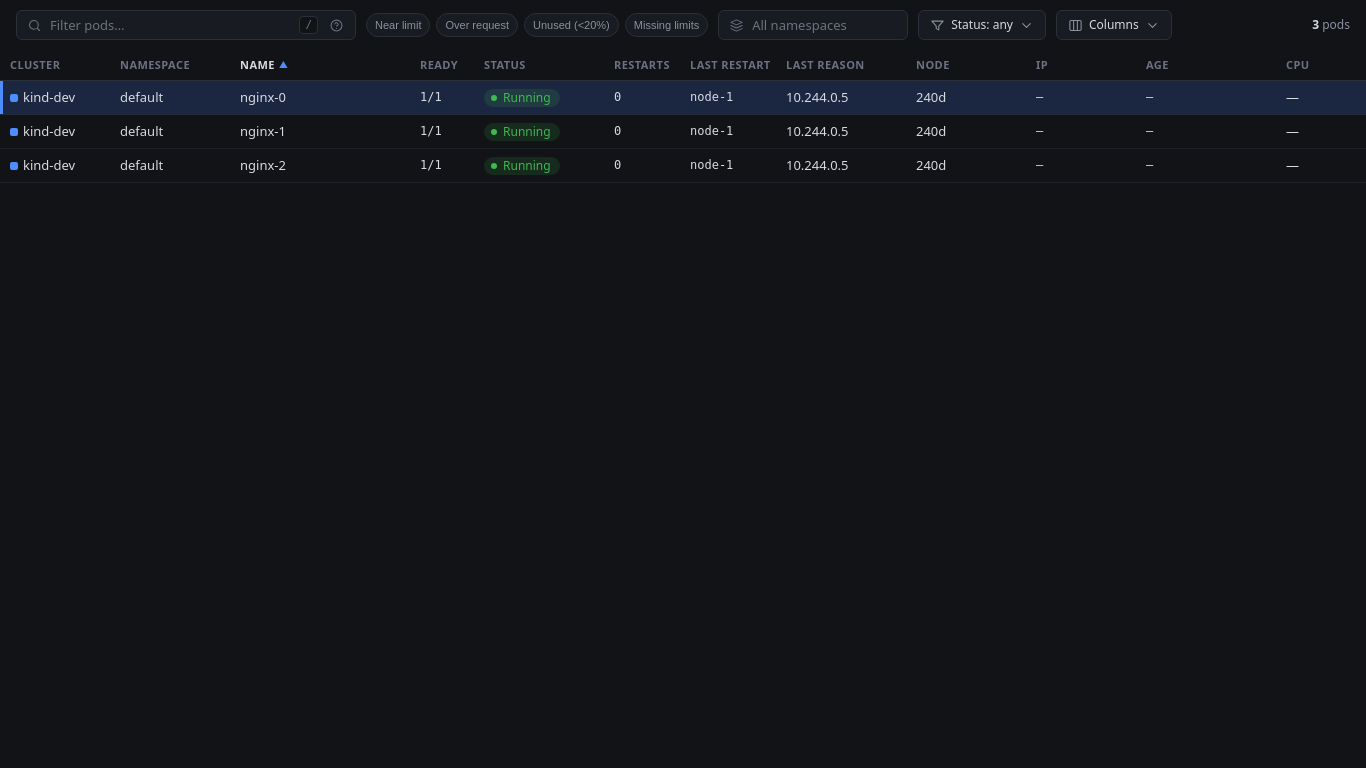
Test: R-07 ActionConfirmDialog mounted in PodTable and the palette › ctrl-d on the selected row opens the dialog for that row with the backend preview
Expected: the text "nginx-2" is shown, [240,156,286,174]
Click the text "nginx-0": (683, 98) [0,81,1365,115]
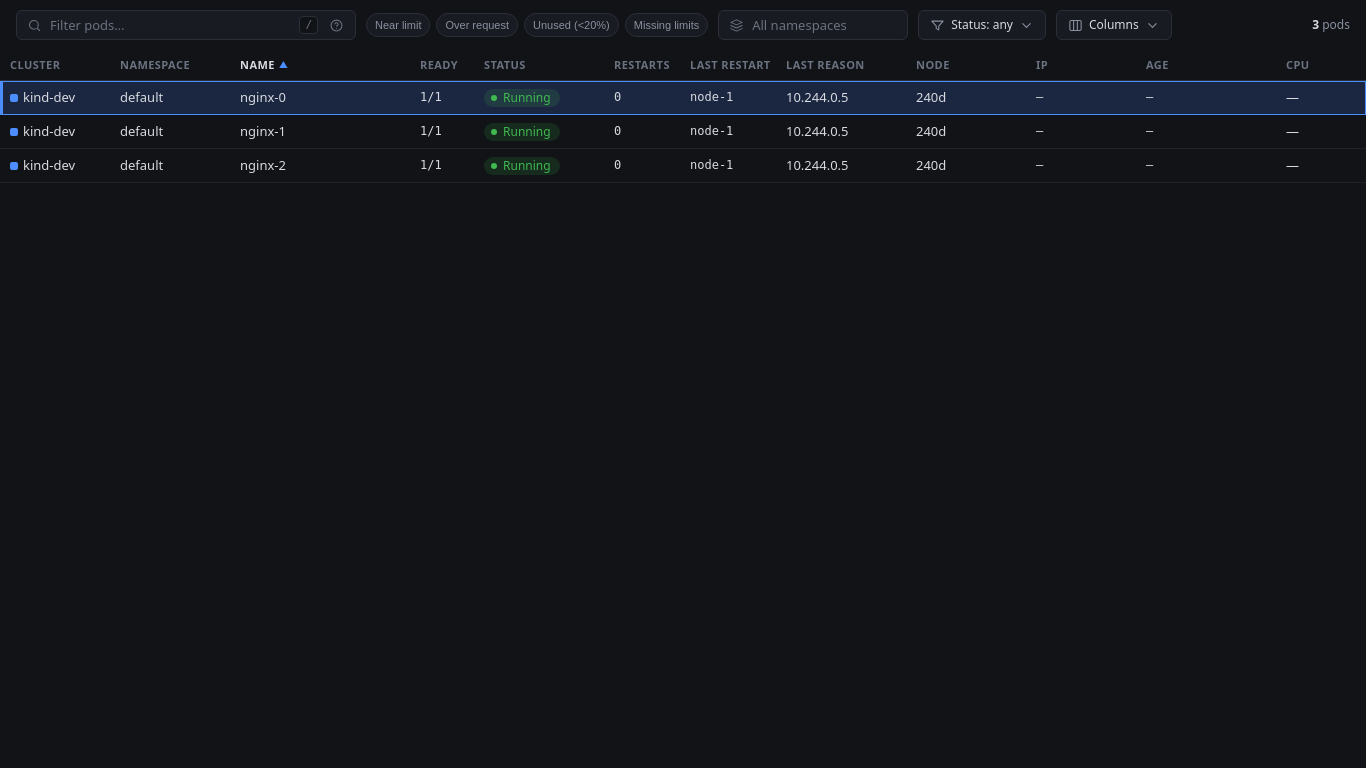
Type keys "j"
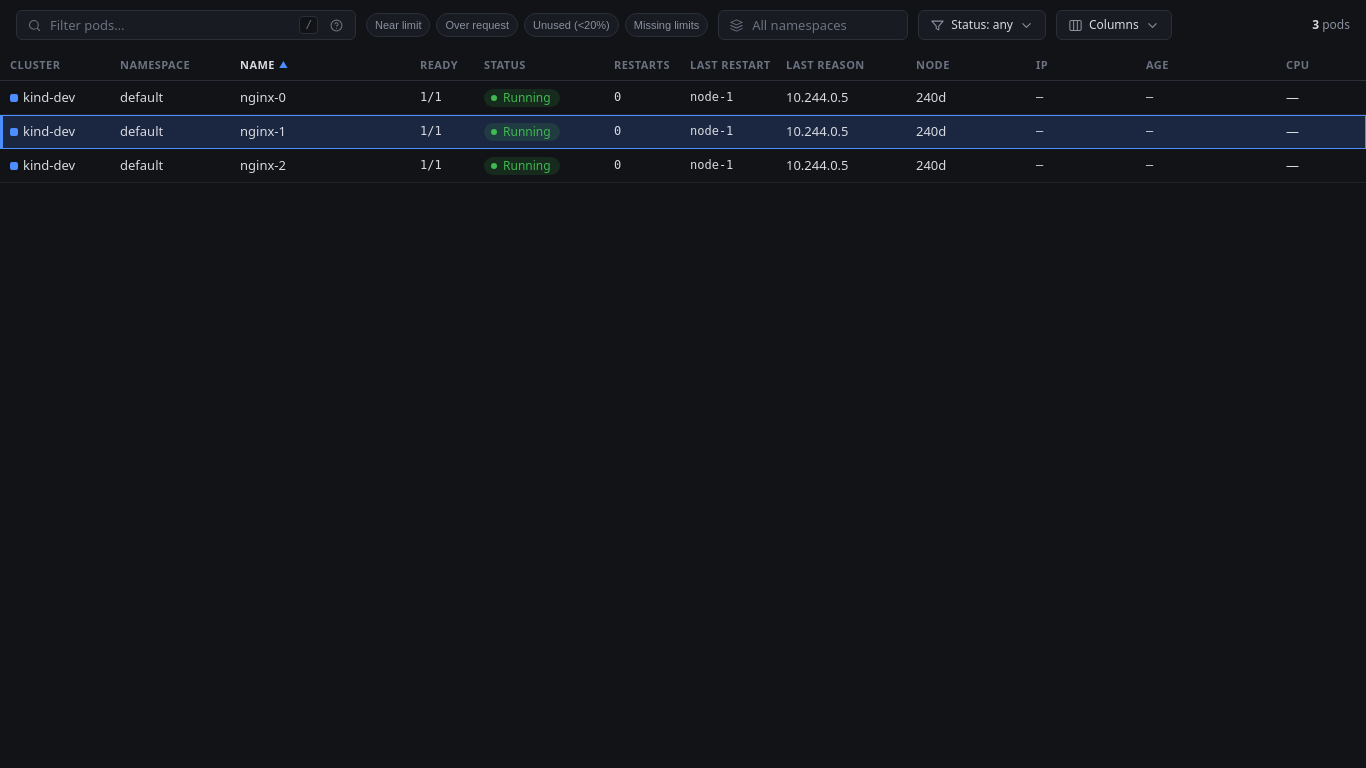
Type keys "{Control>}d{/Control}"
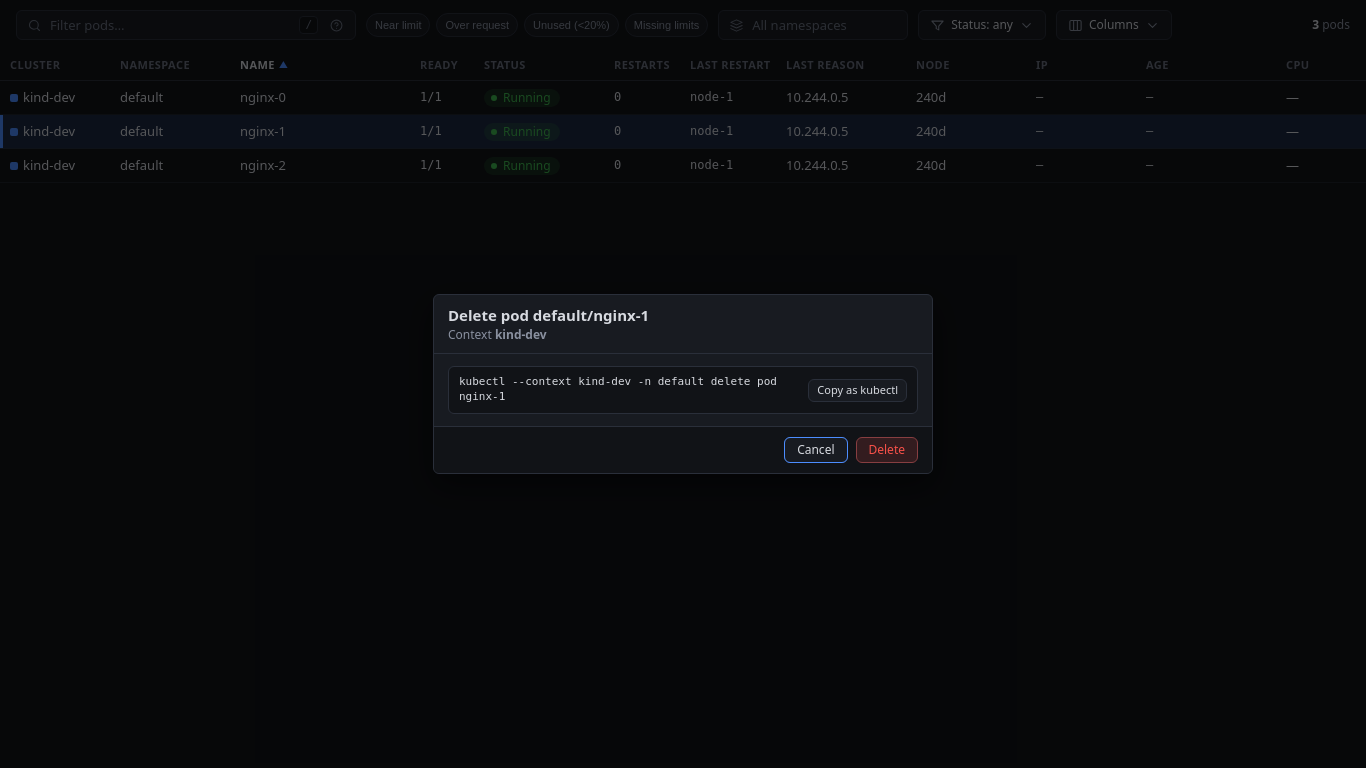
Expected: the text with test id "kubectl-preview" reads "kubectl --context kind-dev -n default delete pod nginx-1", [459,375,777,403]
Expected: the button with test id "confirm-action-btn" is enabled
Click the button with test id "confirm-action-btn": (887, 450) [856,437,918,463]
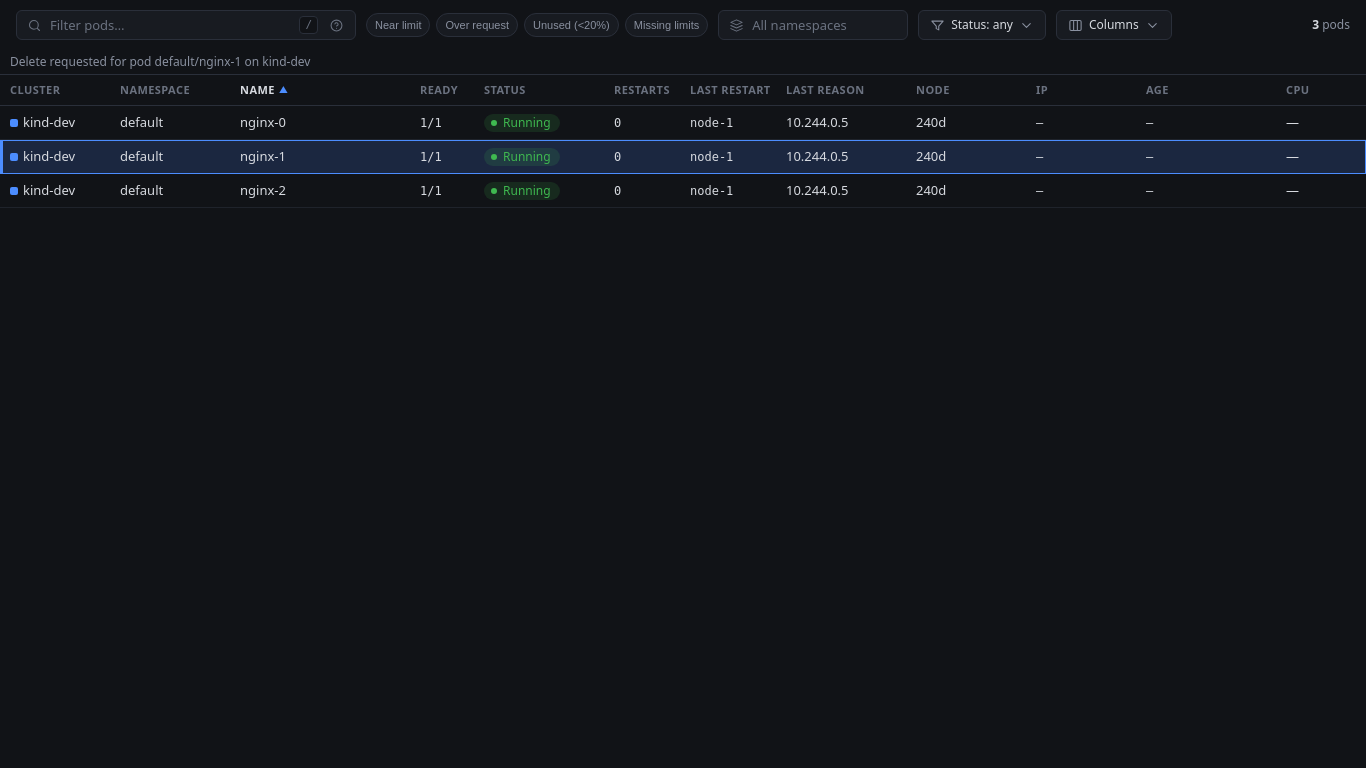
Expected: the text "nginx-1" is shown, [240,147,286,165]
Expected: the dialog is gone
Expected: the message with test id "action-status" reads "Delete requested for pod default/nginx-1 on kind-dev", [10,53,310,70]
